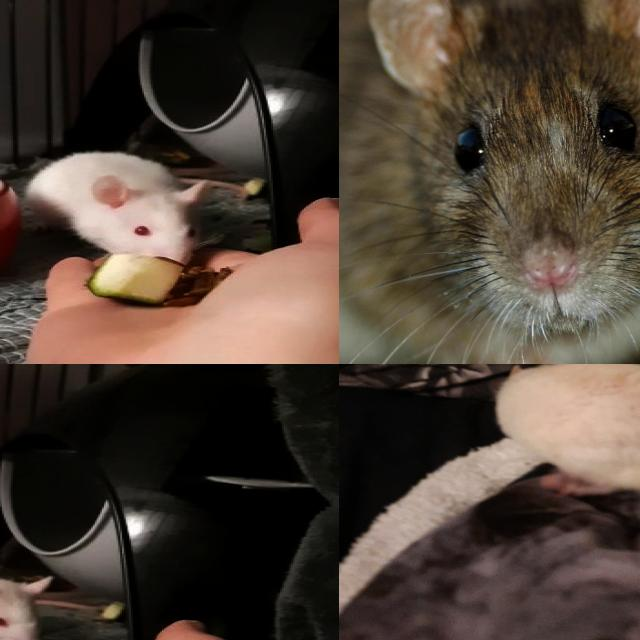rat: (339, 0, 640, 364), (26, 150, 221, 272), (498, 364, 640, 505), (0, 548, 51, 640)
